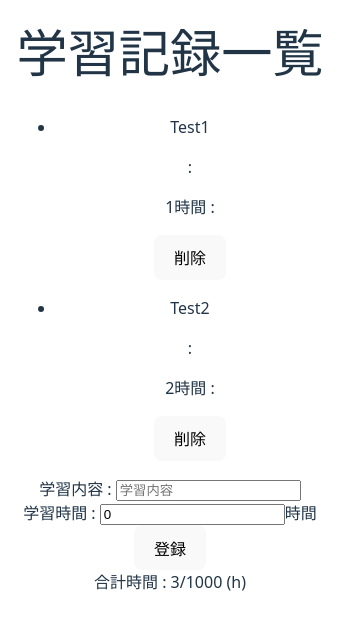
Test: App.tsxテスト › 入力をしないで登録を押すとエラーが表示される
Expected: the heading "学習記録一覧" is shown, [16, 24, 324, 80]
Expected: the text "入力されていない項目があります。" is not shown
Step 1. Click the button "登録" → (170, 548), box [134, 525, 206, 570]
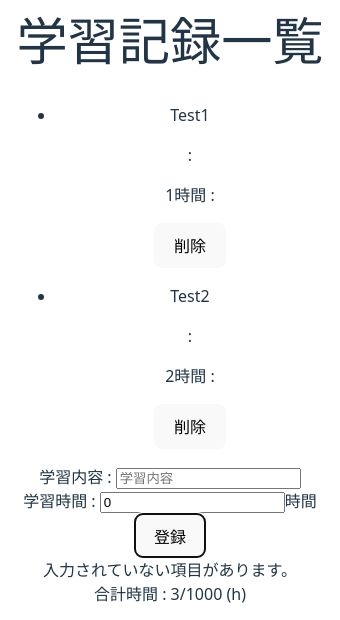
Now the text "入力されていない項目があります。" is shown, box [43, 559, 297, 581]
